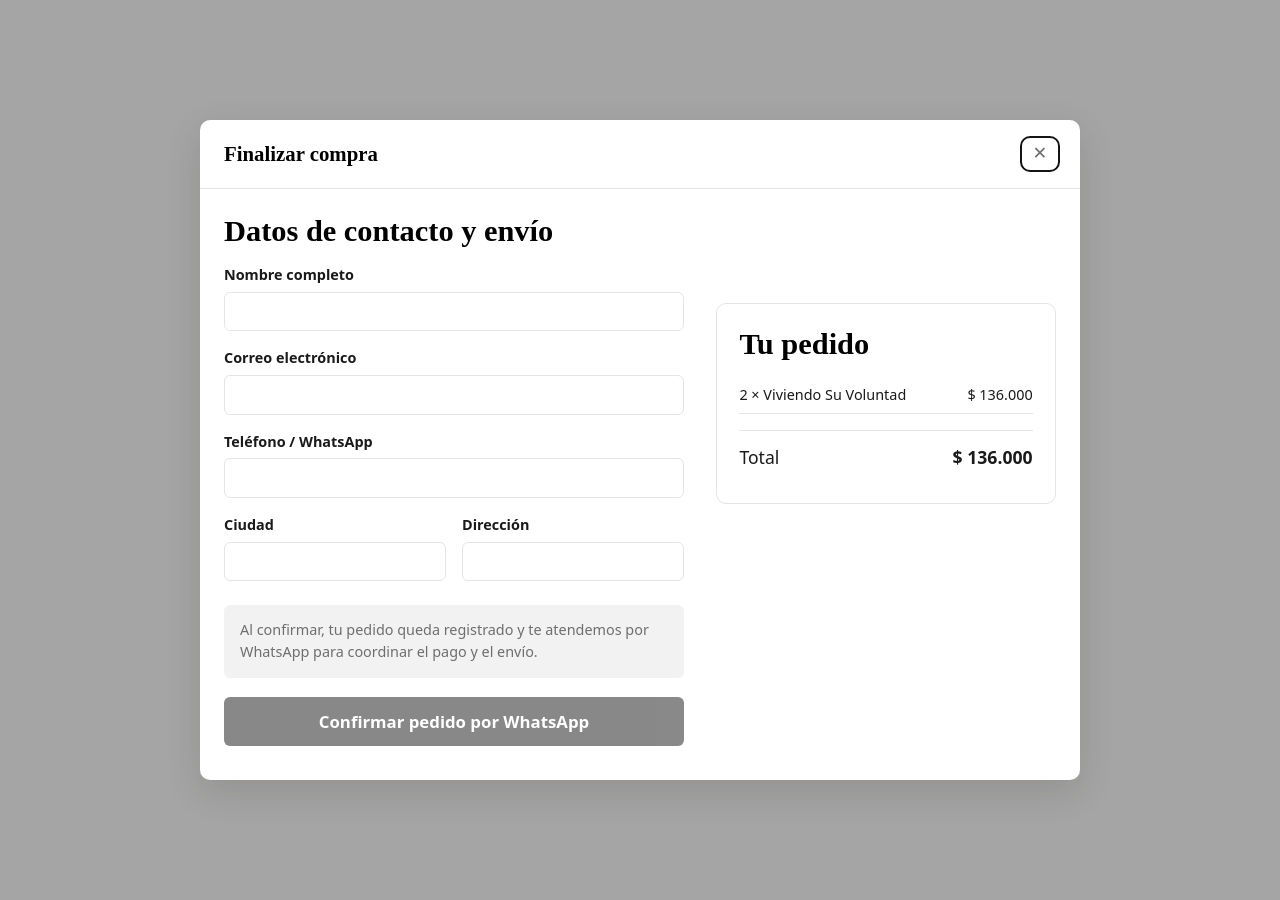
Test: Checkout: confirmación › registra el pedido, abre WhatsApp y vacía el carrito
The image size is (1280, 900).
Type "Ana Pérez" into the field labelled "Nombre completo" at (454,312), box [224,292,684,331]
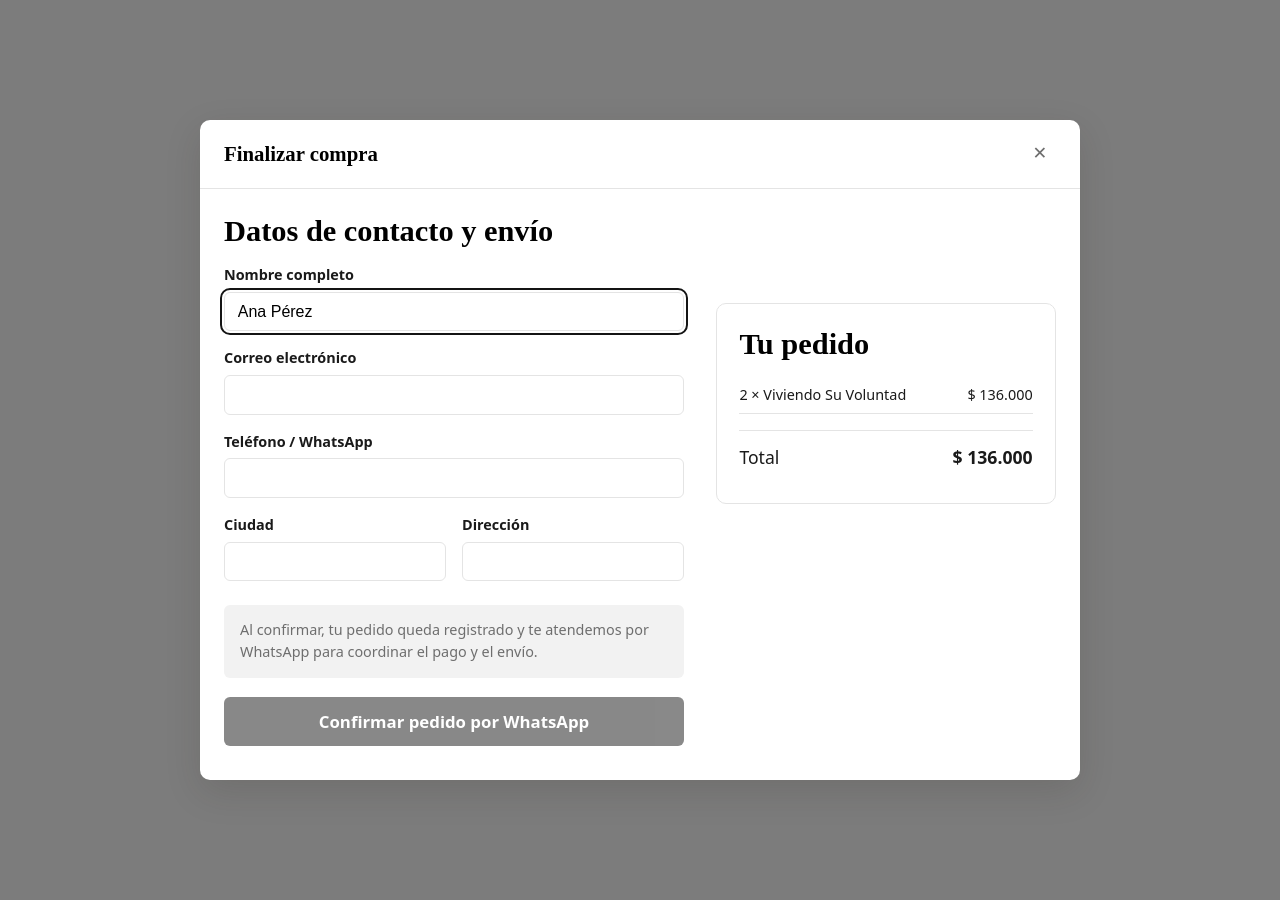
Type "ana@correo.com" into the field labelled "Correo electrónico" at (454,395), box [224,375,684,414]
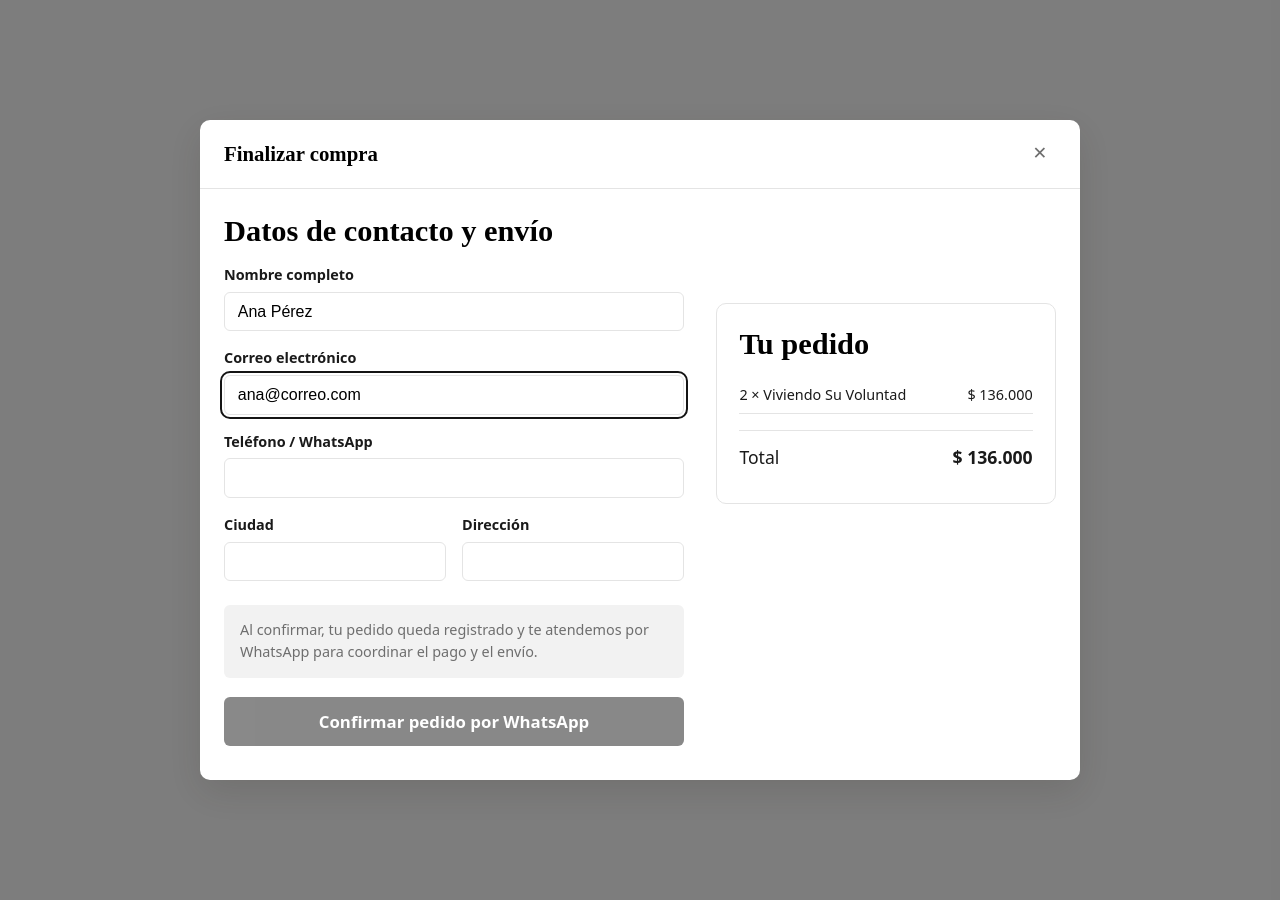
Type "3206979160" into the field labelled "Teléfono / WhatsApp" at (454,478), box [224,458,684,498]
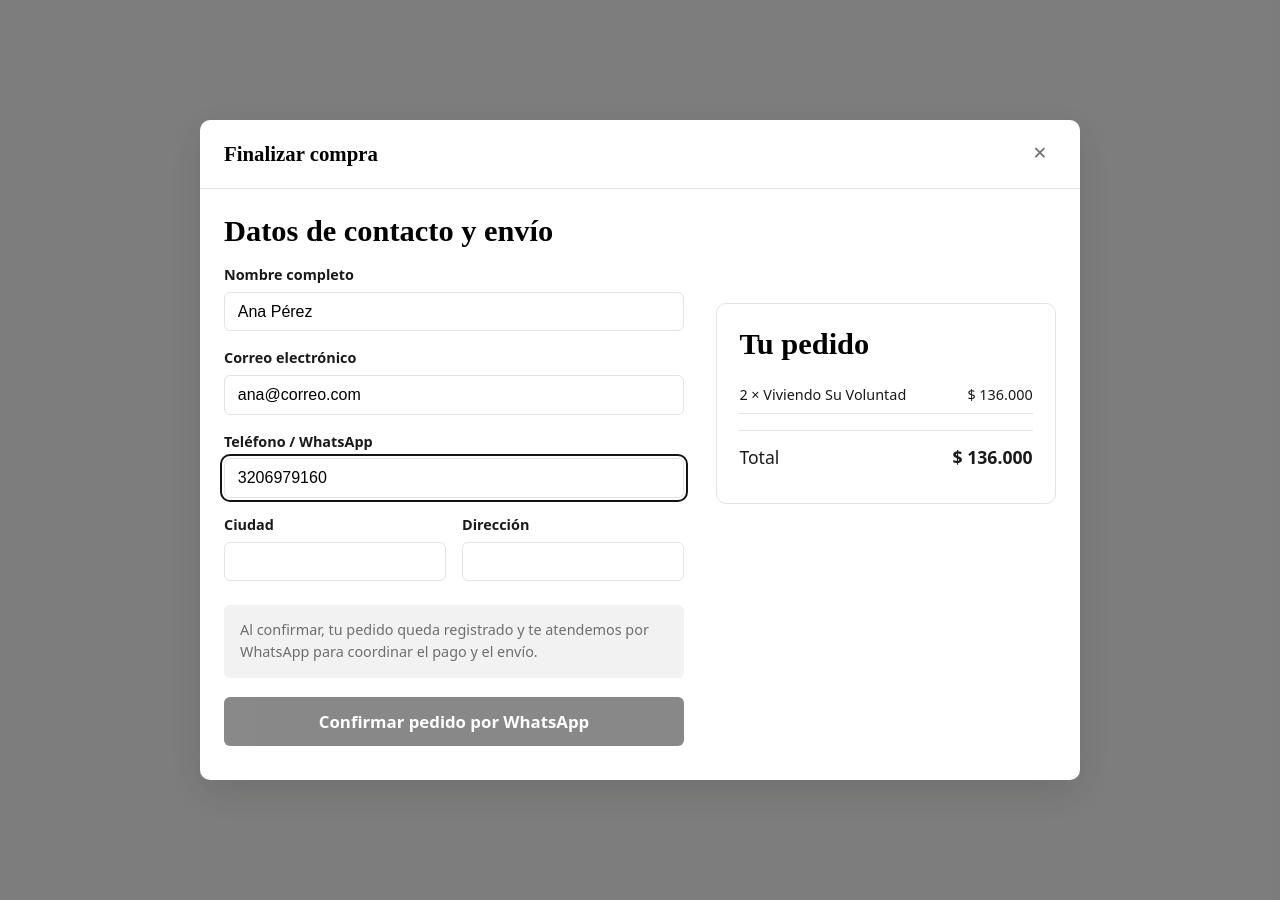
Type "Bogotá" into the field labelled "Ciudad" at (335,561), box [224,542,446,581]
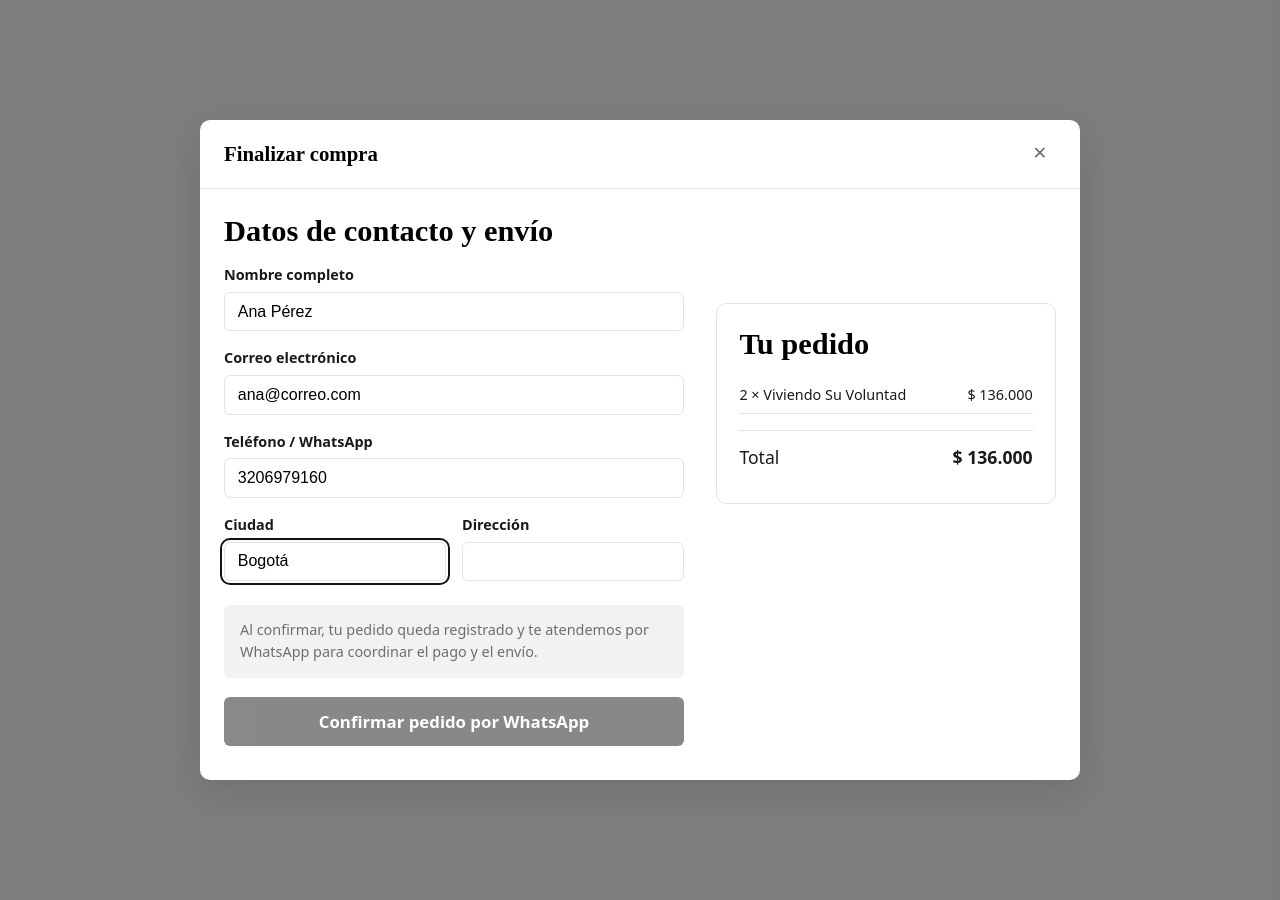
Type "Calle 1 #2-3" into the field labelled "Dirección" at (573,561), box [462,542,684,581]
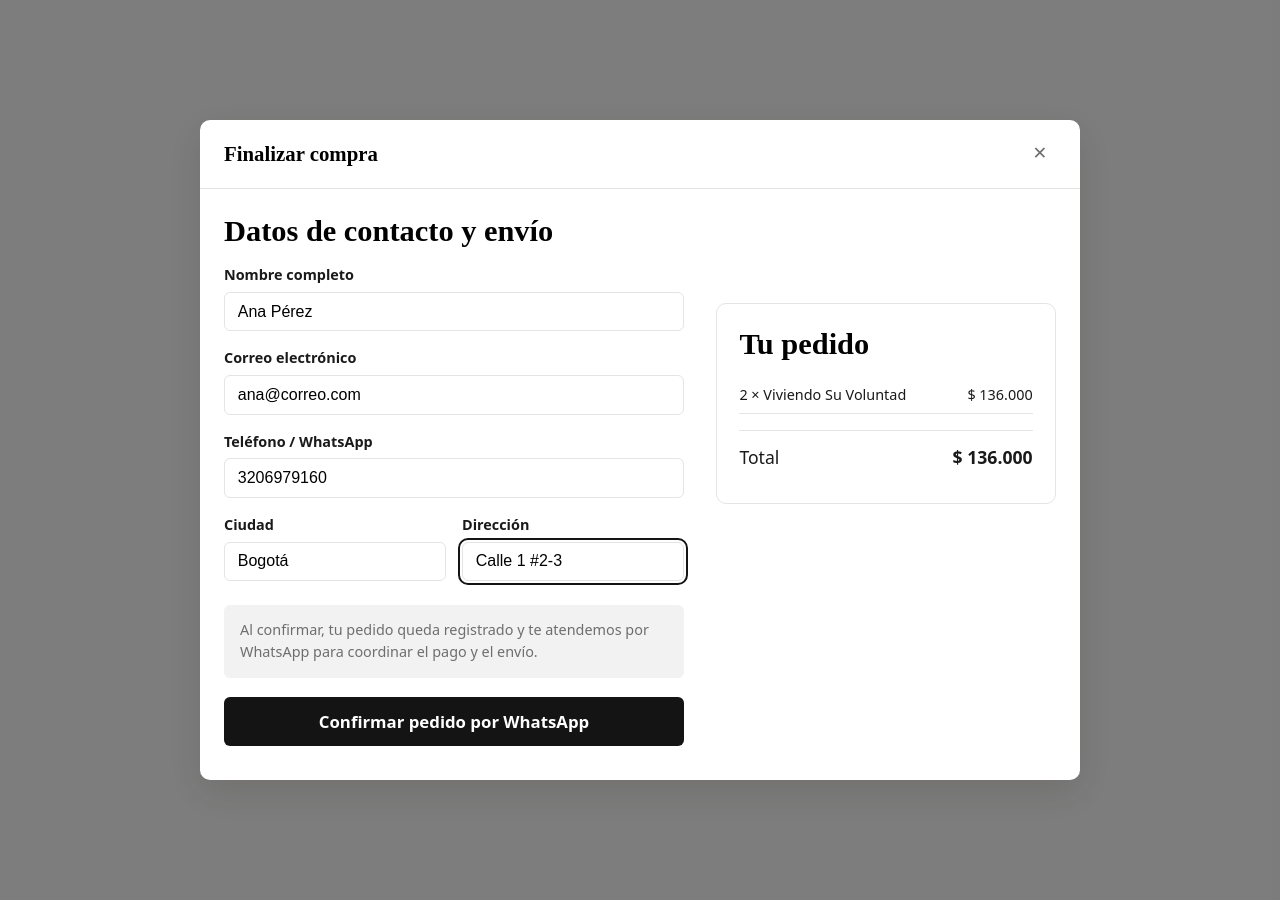
Click the button "Confirmar pedido por WhatsApp" at (454,722), box [224,697,684,746]
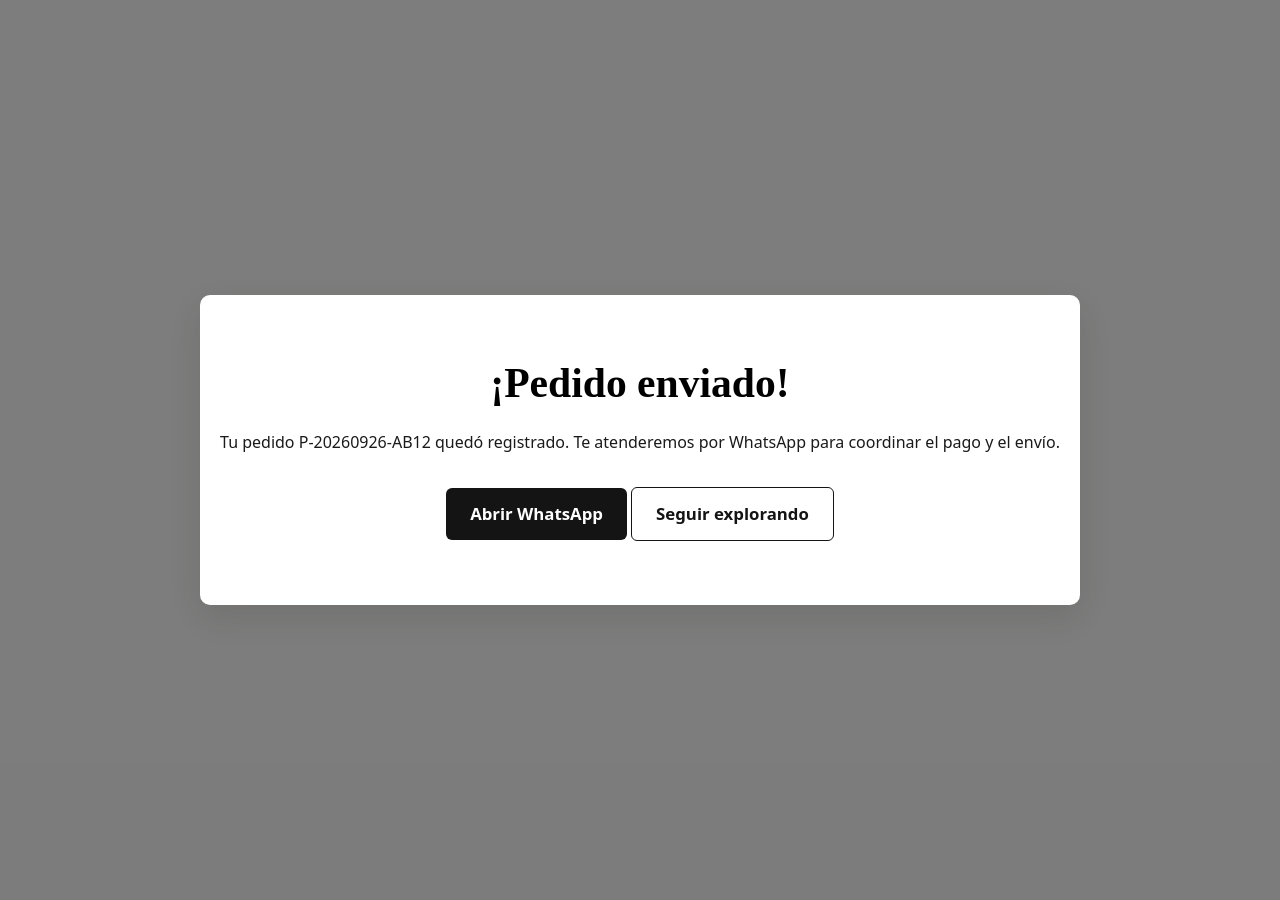
Result: the heading "¡Pedido enviado!" is shown at [490,360,790,406]
